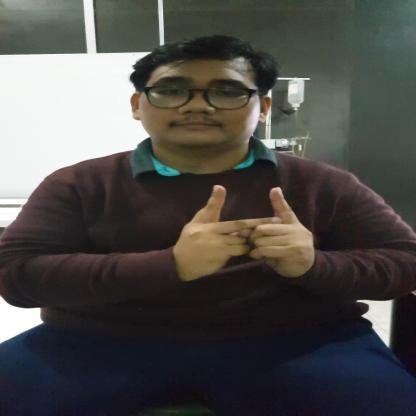H: (172, 182, 320, 280)
